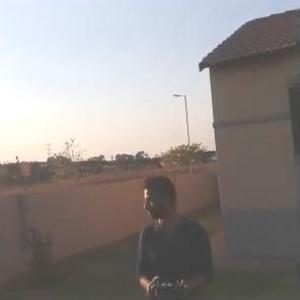follow: (126, 169, 213, 299)
